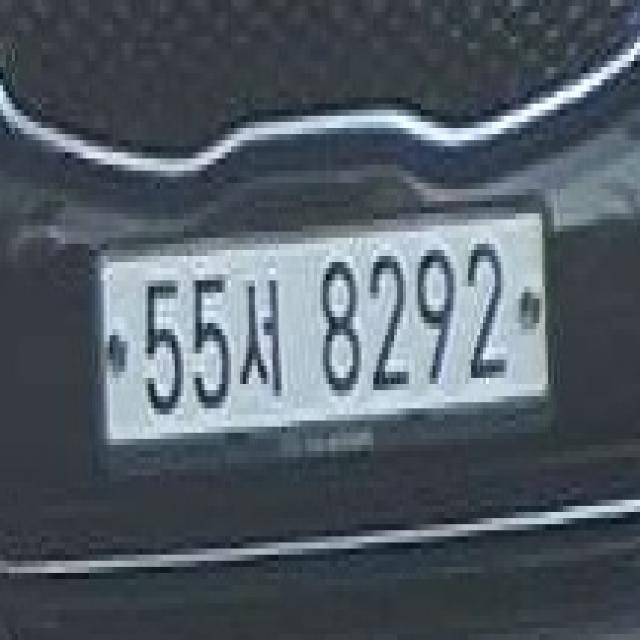2: (365, 240, 412, 396), (463, 230, 508, 385)
5: (187, 260, 234, 410), (142, 269, 184, 415)
8: (316, 250, 362, 398)
9: (415, 239, 456, 393)
license_plate: (86, 173, 565, 478)
seo: (238, 258, 286, 400)
